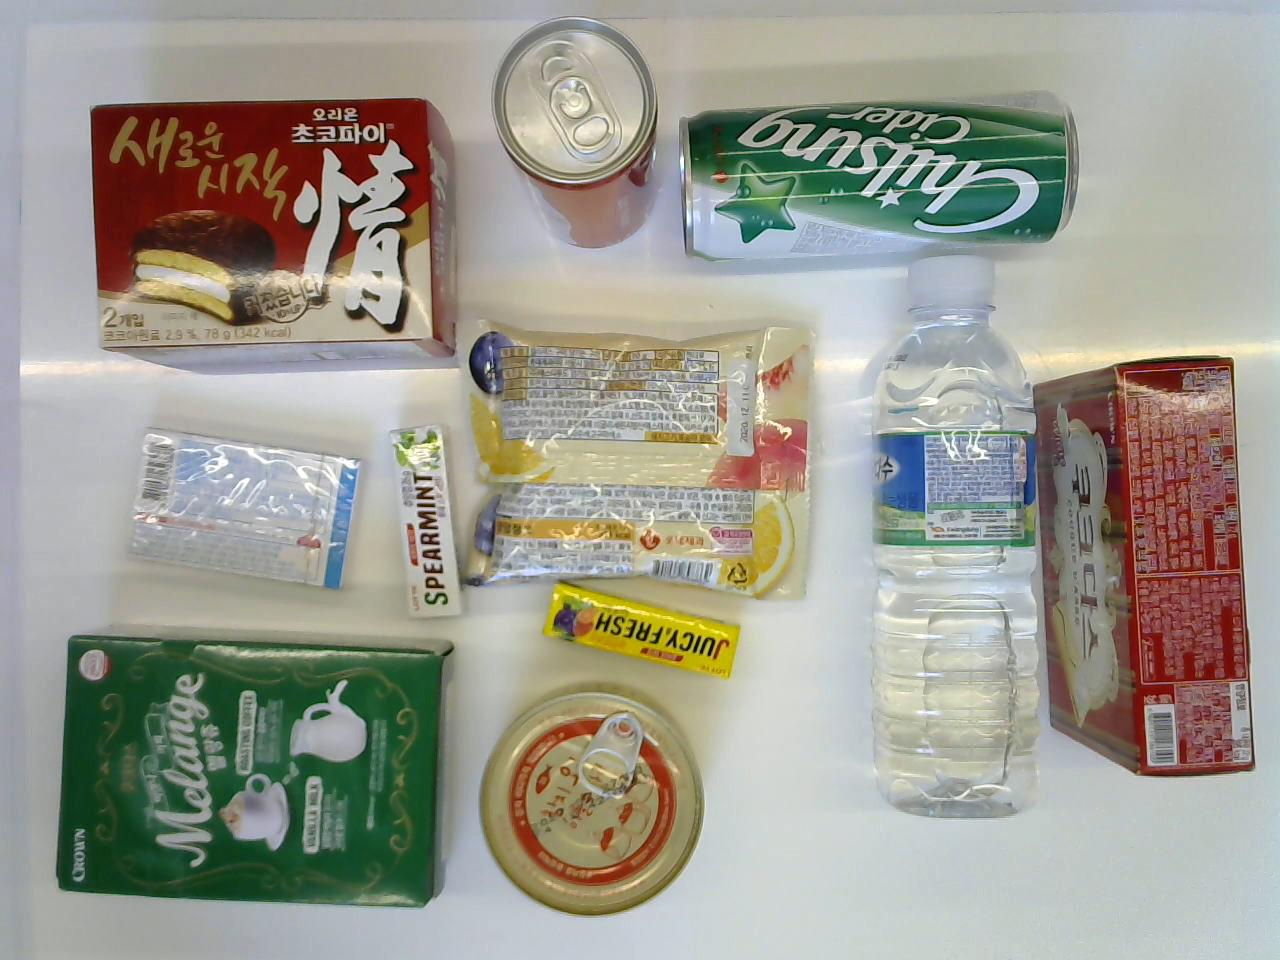ID_gum: (122, 431, 363, 587)
chocopie: (79, 92, 462, 378)
cidar: (673, 71, 1082, 268)
coke: (483, 11, 670, 254)
couque_coffee: (47, 628, 456, 911)
couque_white: (1026, 350, 1264, 791)
gumi_gumi: (450, 301, 820, 600)
juicyfresh: (524, 571, 743, 685)
samdasu: (863, 237, 1058, 828)
spearmint: (391, 419, 479, 624)
tuna: (477, 678, 709, 923)
